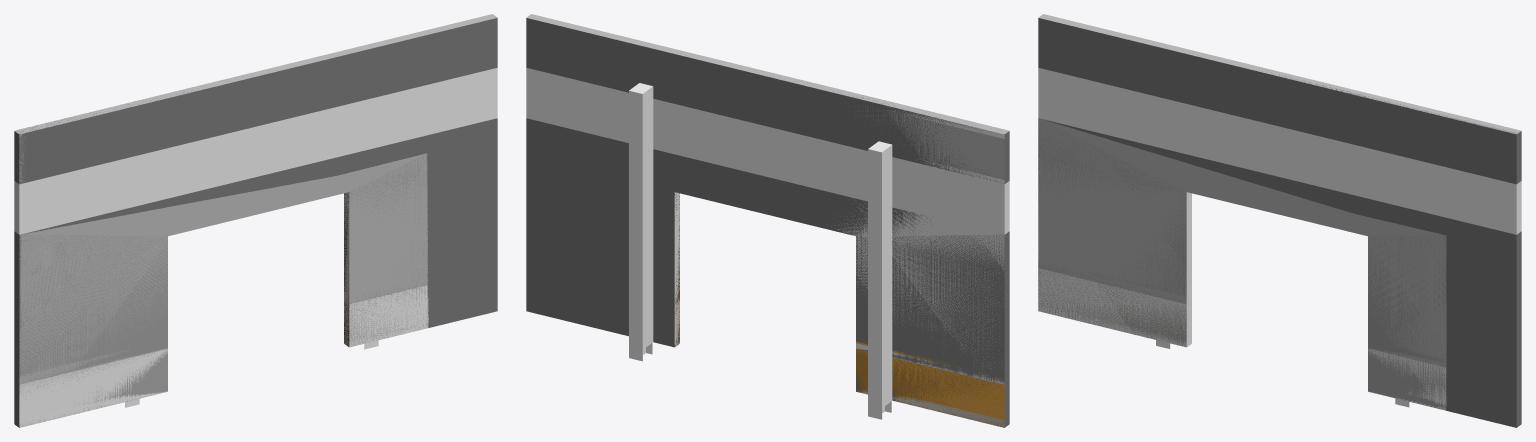
Rendered from s_wh_garage_wall_16m.dae.
The picture shows the model from 3 angles, left to right: view 1: azimuth 30°, elevation 25°; view 2: azimuth 150°, elevation 25°; view 3: azimuth 330°, elevation 25°; orthographic projection.
Parts seen in each view (by area): view 1: Colmesh_s_wh_garage_wall_16m-1, s_wh_garage_wall_16m_L90, s_wh_garage_wall_16m_L40; view 2: Colmesh_s_wh_garage_wall_16m-1, s_wh_garage_wall_16m_L90, s_wh_garage_wall_16m_L40, s_wh_garage_wall_16m_L250; view 3: Colmesh_s_wh_garage_wall_16m-1, s_wh_garage_wall_16m_L90, s_wh_garage_wall_16m_L40.
Part boxes in pixels (x1,y1,x2,y2): Colmesh_s_wh_garage_wall_16m-1: (14,18,497,427); s_wh_garage_wall_16m_L90: (14,14,497,427); s_wh_garage_wall_16m_L40: (19,154,428,427); Colmesh_s_wh_garage_wall_16m-1: (526,18,1009,427); s_wh_garage_wall_16m_L90: (526,14,1009,427); s_wh_garage_wall_16m_L40: (674,192,1004,427); s_wh_garage_wall_16m_L250: (629,83,976,419); Colmesh_s_wh_garage_wall_16m-1: (1038,18,1521,427); s_wh_garage_wall_16m_L90: (1038,14,1521,410); s_wh_garage_wall_16m_L40: (1038,118,1446,409).
Bounding box in the file's own units: 16 × 0.9146 × 9.74.
